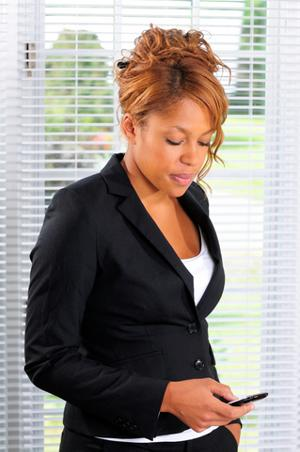person: (25, 26, 257, 451)
